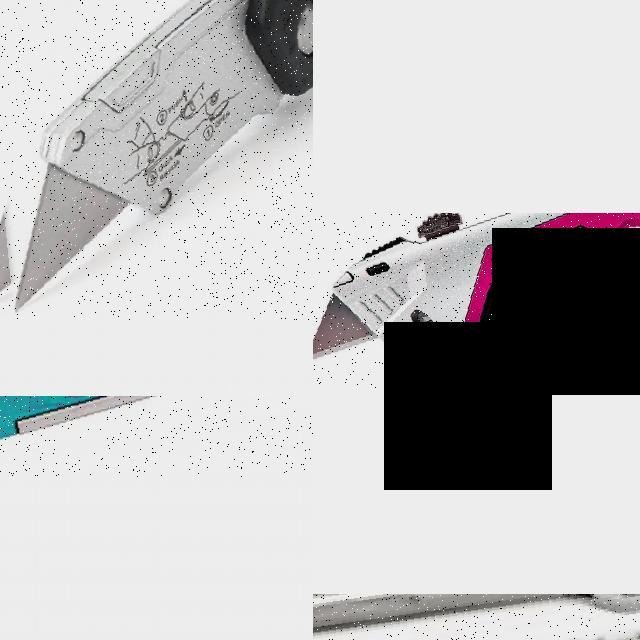estilete: (17, 0, 312, 308), (313, 213, 639, 357)
